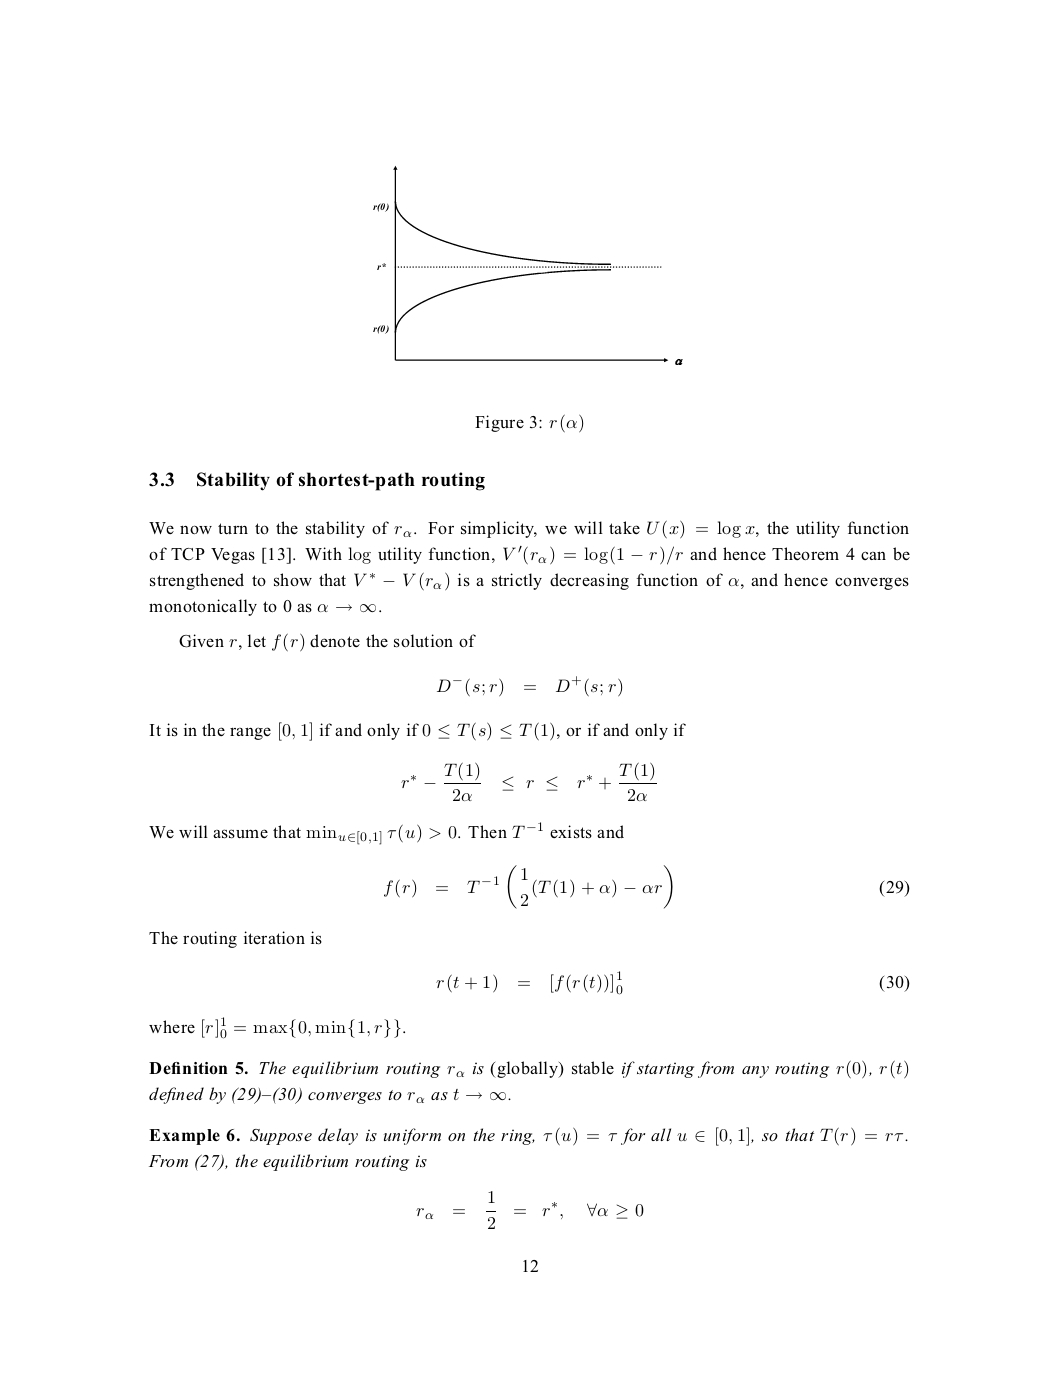figure: (373, 164, 682, 366)
formula: (385, 864, 909, 909), (436, 970, 909, 995), (401, 761, 656, 802), (416, 1190, 643, 1229), (436, 675, 622, 697)
